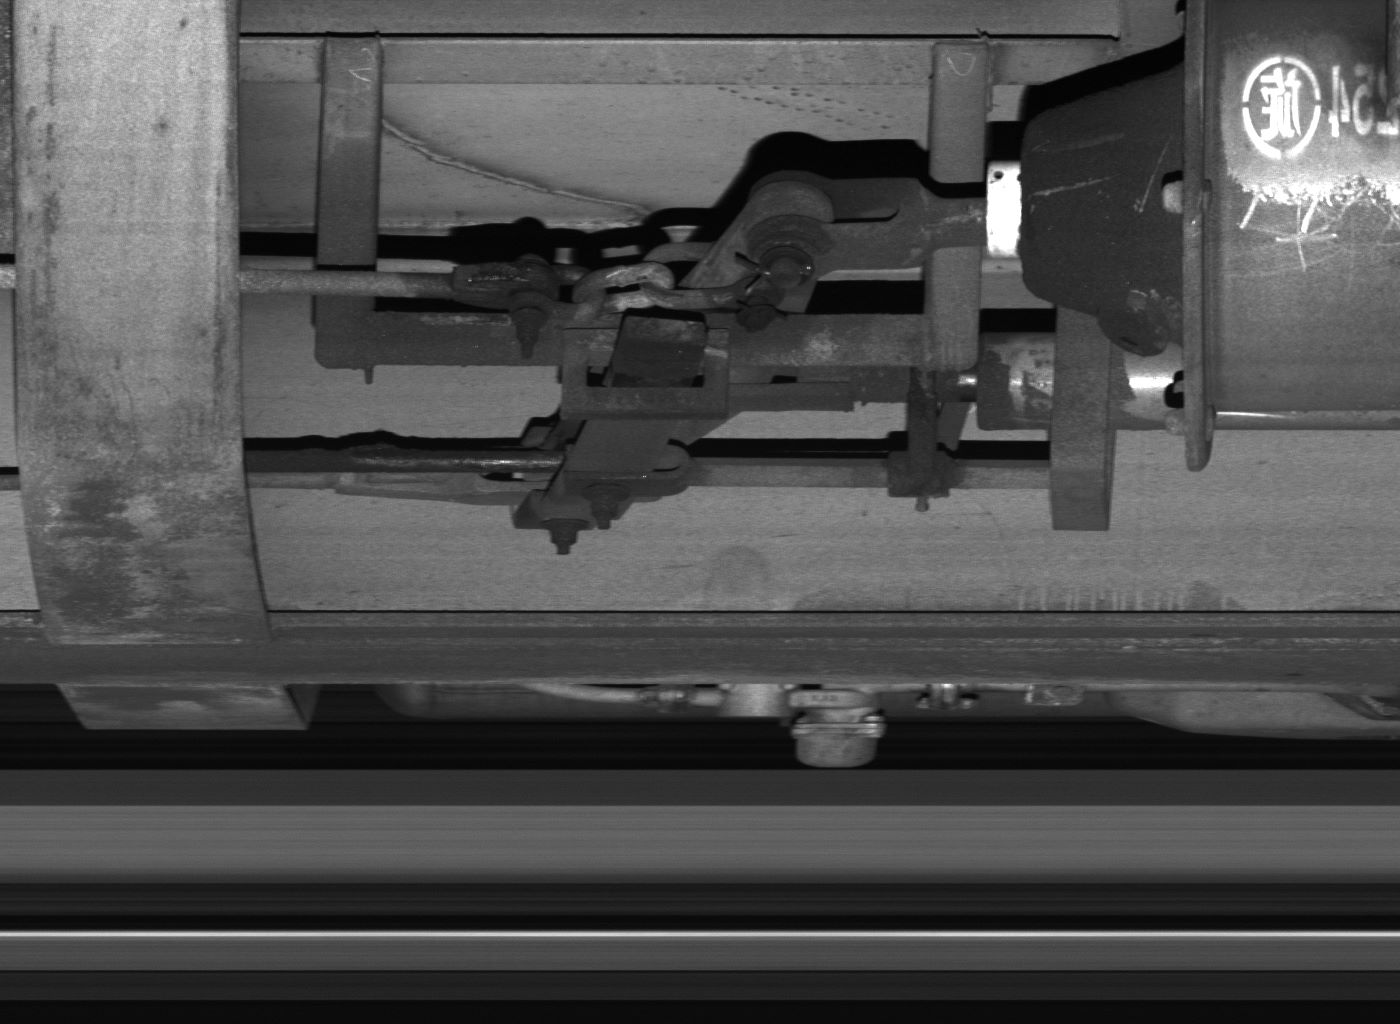normal: (791, 709, 888, 765)
